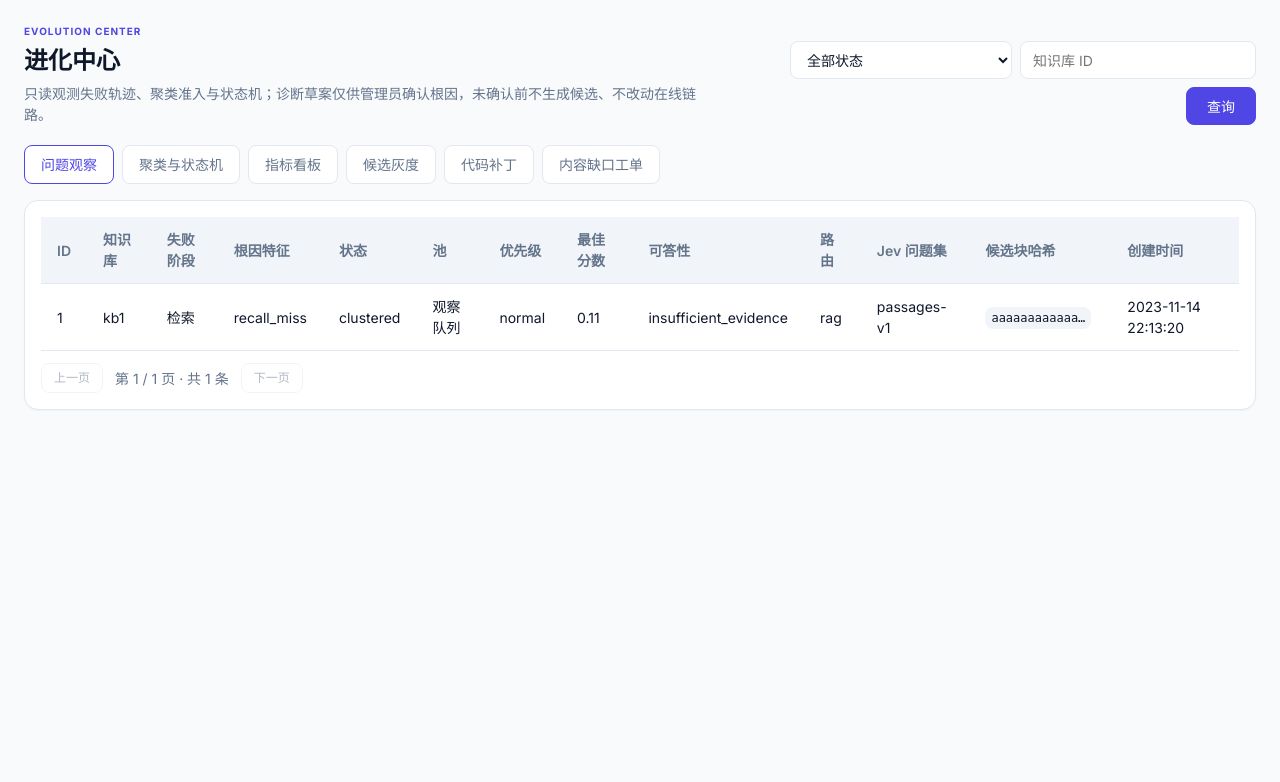
Scenario: EvolutionCenterView member-draft review › explains the administrator boundary when a decision is rejected
What coordinates should you click on to do the following:
click the button with test id "tab-clusters"
I would click on:
 (181, 164)
Its box is x1=122 y1=145 x2=240 y2=184.
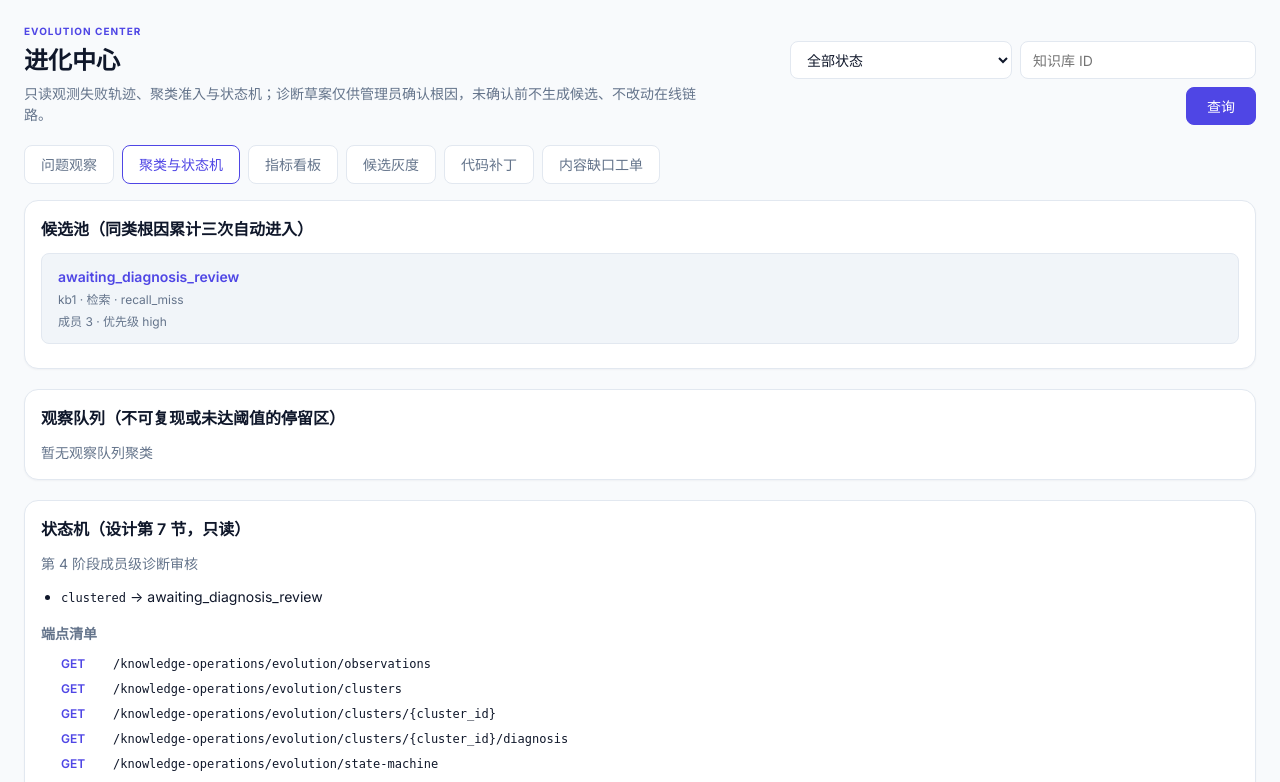
What coordinates should you click on to do the following:
click the button with test id "cluster-card"
I would click on:
 (149, 276)
Its box is x1=41 y1=253 x2=1239 y2=344.
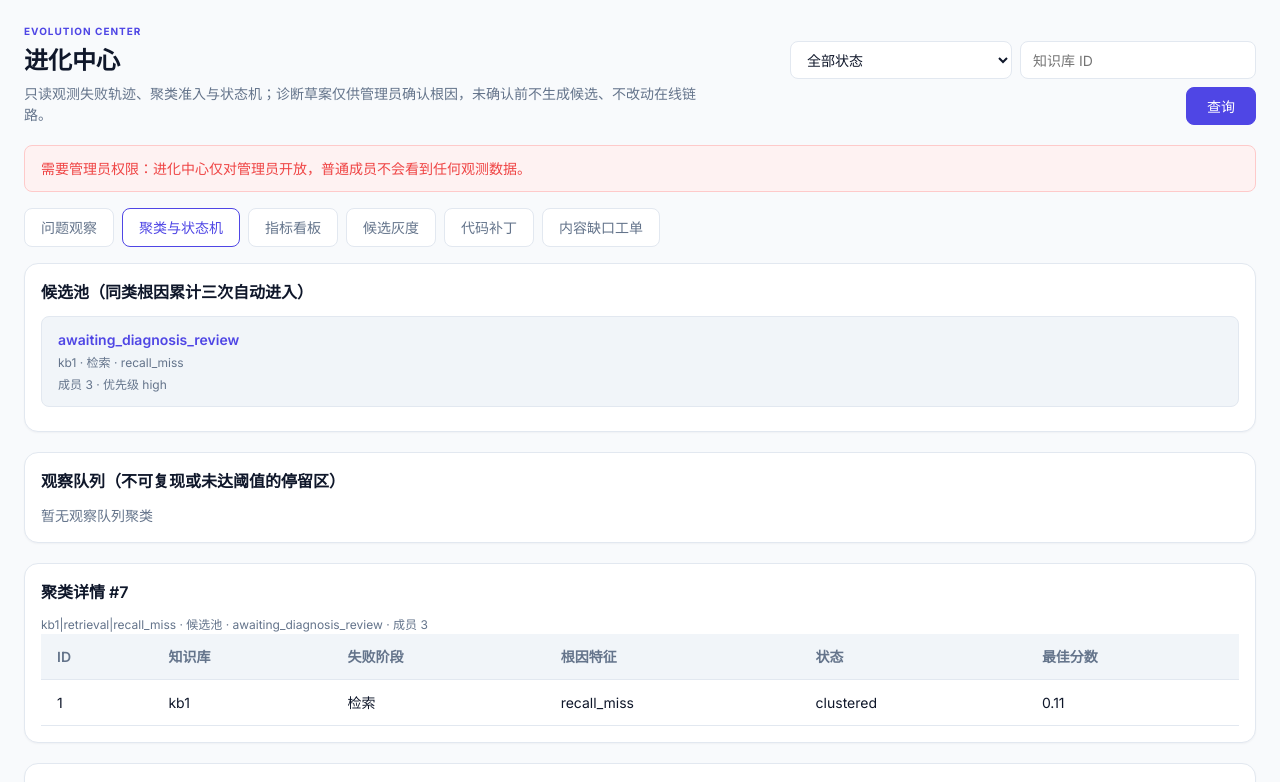
Result: the message with test id "evolution-forbidden" shows "管理员" at x1=24 y1=145 x2=1256 y2=192
